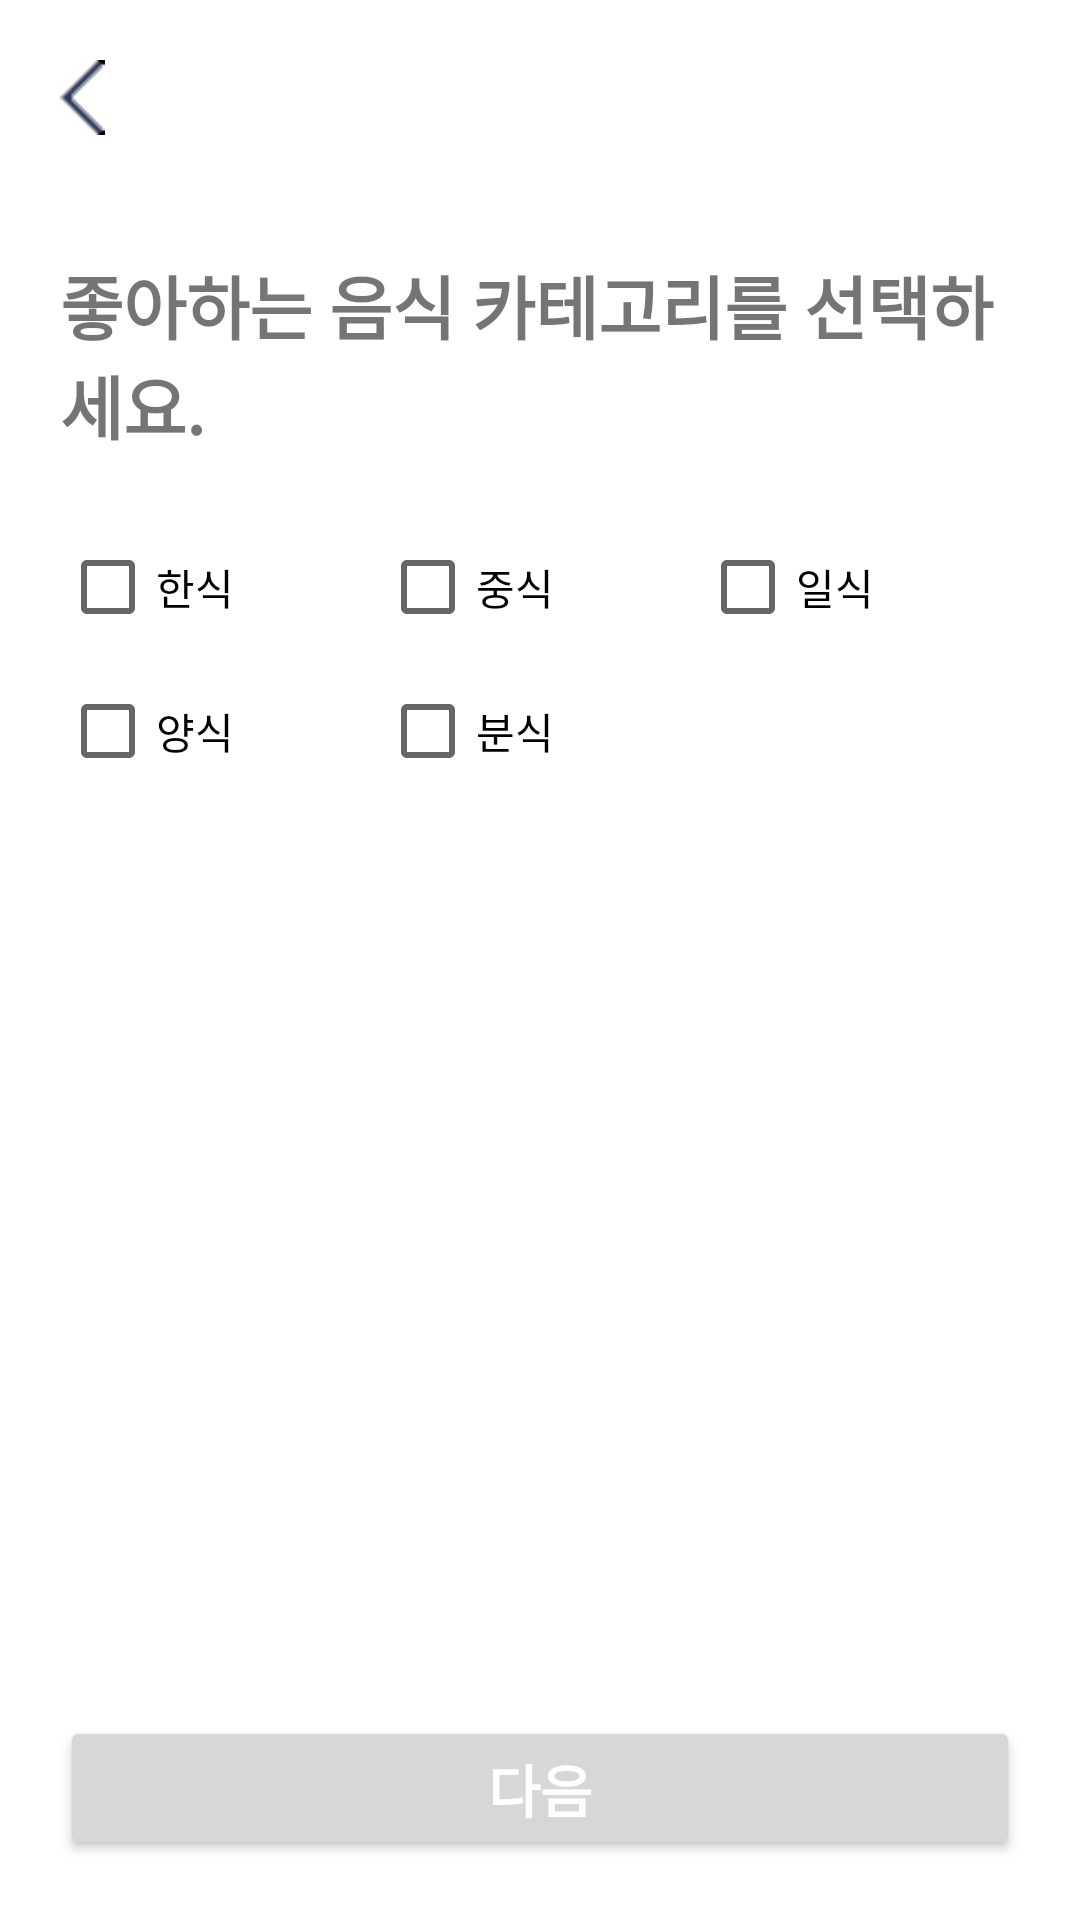

Named icons in this screenshot (1080x1920) and their centers, point (x, y):
backarrow: point (82, 97)
